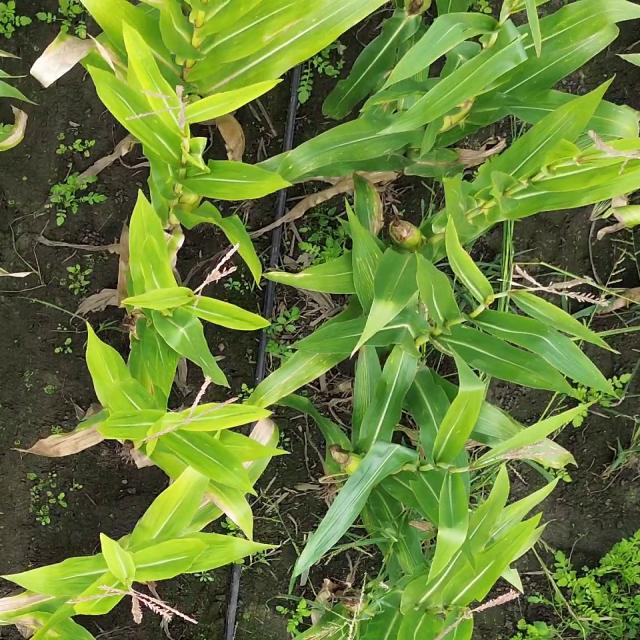gray-leaf-spot: (337, 177, 415, 306), (327, 363, 392, 448)
northern-leaf-blight: (196, 420, 278, 514)
southern-leaf-blight: (265, 112, 407, 195), (487, 2, 603, 94), (252, 334, 356, 407), (120, 337, 202, 391)
